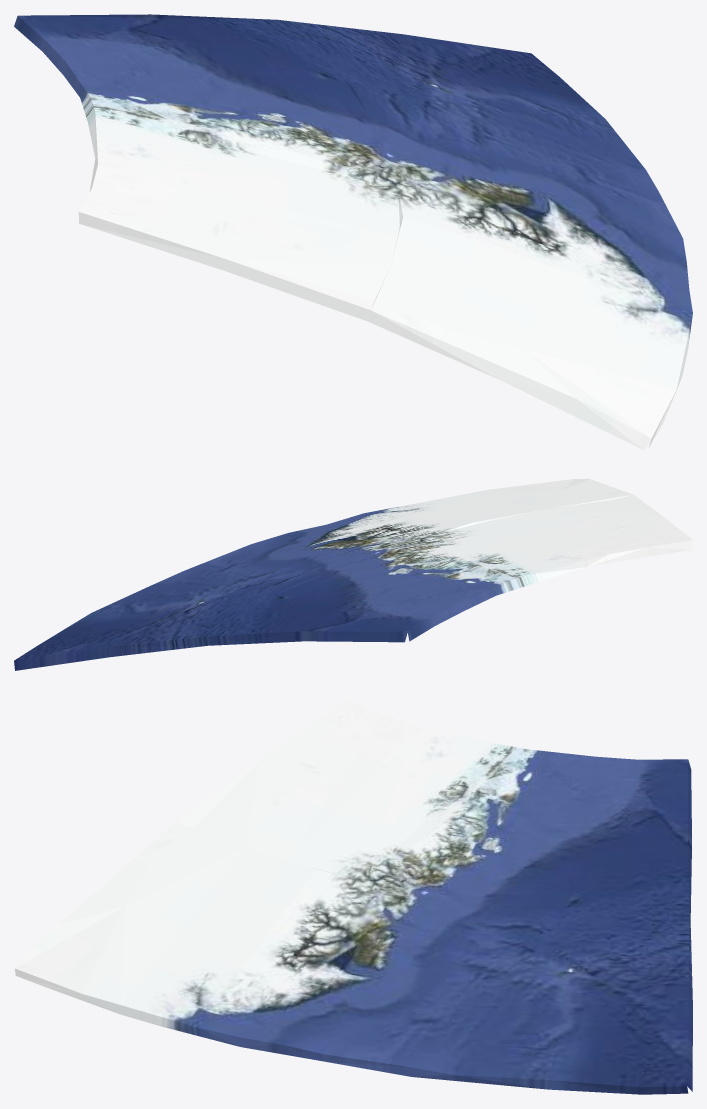
3 views of the same model, one above another, from view 1: azimuth 30°, elevation 25°; view 2: azimuth 150°, elevation 25°; view 3: azimuth 270°, elevation 25° (orthographic). The views are drawn at different scales.
Bounding box in the file's own units: 1579525 × 394754 × 1751062.
Materials: 1 (1 with a texture image).
